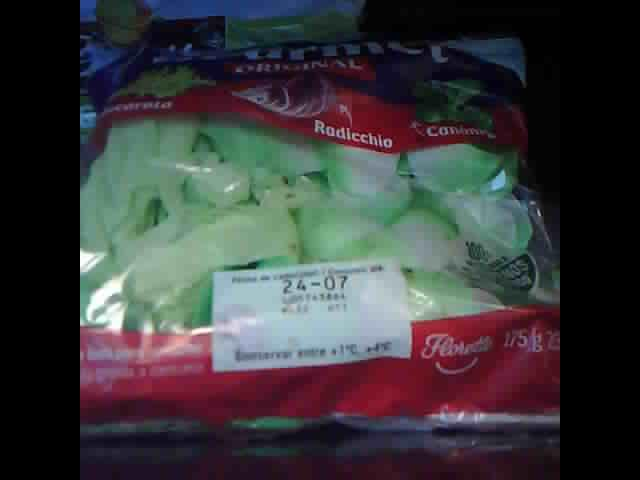florette: (82, 35, 556, 436), (82, 2, 377, 142)
